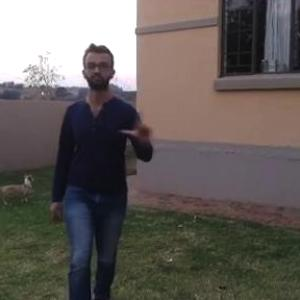land_hand: (117, 97, 163, 147)
